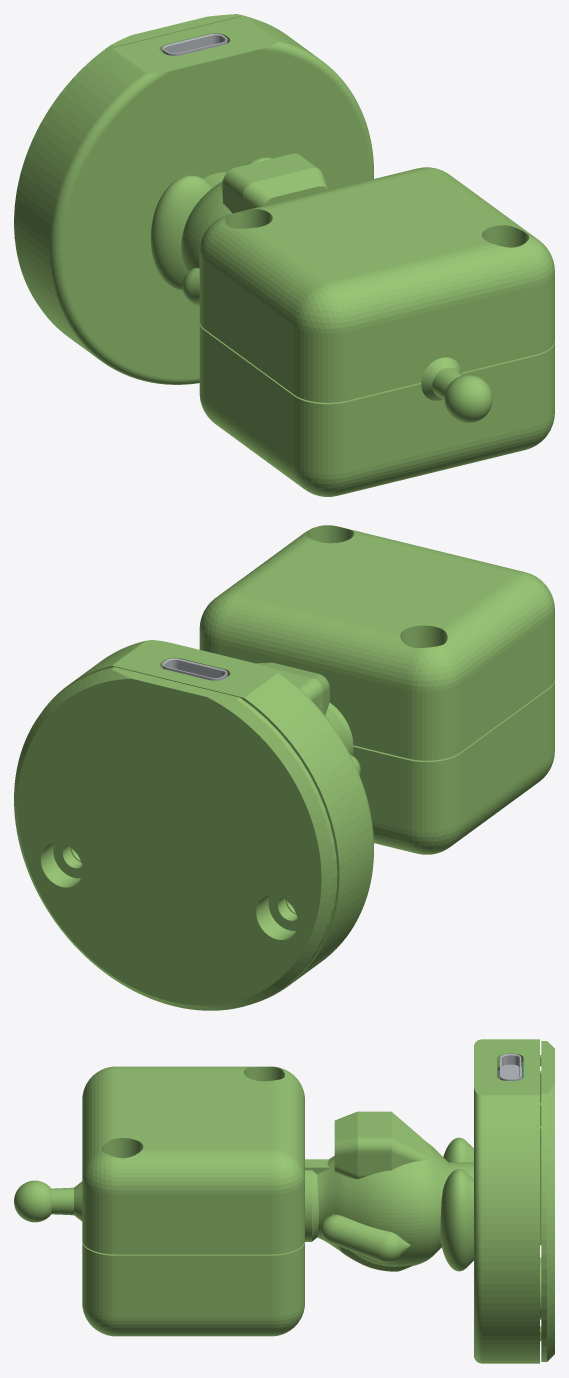
Rendered from meep-bot.glb.
The picture shows the model from 3 angles, top to bottom: view 1: azimuth 30°, elevation 25°; view 2: azimuth 150°, elevation 25°; view 3: azimuth 270°, elevation 25°; orthographic projection. The views are drawn at different scales.
Visible parts, largest first — view 1: body_and_pedestal, head_rear, head_front, antenna, pedestal_cover, elec_base_usb; view 2: pedestal_cover, head_rear, body_and_pedestal, head_front, elec_base_usb; view 3: body_and_pedestal, head_rear, head_front, pedestal_cover, antenna, elec_base_usb.
Boxes of the visible parts, box(x1,y1,x2,y2) form: body_and_pedestal: box(16, 16, 373, 384); head_rear: box(199, 167, 554, 402); head_front: box(199, 323, 554, 496); antenna: box(421, 357, 492, 422); pedestal_cover: box(14, 14, 249, 303); elec_base_usb: box(162, 33, 227, 55); pedestal_cover: box(14, 667, 337, 1010); head_rear: box(199, 525, 554, 760); body_and_pedestal: box(42, 640, 373, 1002); head_front: box(352, 680, 554, 854); elec_base_usb: box(162, 658, 227, 680); body_and_pedestal: box(305, 1039, 539, 1363); head_rear: box(82, 1066, 304, 1254); head_front: box(82, 1242, 304, 1336); pedestal_cover: box(540, 1041, 554, 1361); antenna: box(14, 1180, 82, 1222); elec_base_usb: box(500, 1054, 521, 1080).
Size of the model in its own units: 48 by 46.01 by 80.1.
